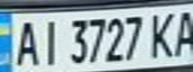2: (103, 12, 127, 63)
3: (63, 15, 87, 65)
7: (84, 15, 109, 64), (124, 11, 148, 61)
A: (9, 16, 42, 68), (172, 6, 193, 57)
I: (36, 15, 63, 66)
K: (145, 9, 178, 60)
